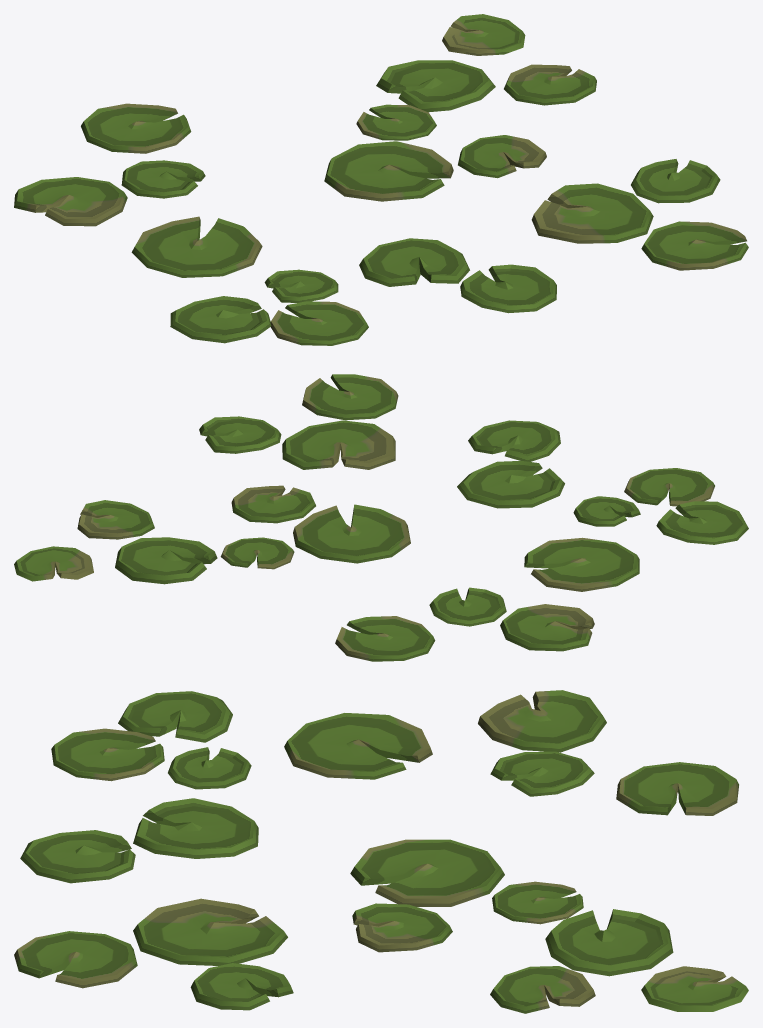
Rendered from swp_Env_LillyPads_01.glb.
The picture shows the model from 3 angles, top to bottom: view 1: azimuth 30°, elevation 25°; view 2: azimuth 150°, elevation 25°; view 3: azimuth 270°, elevation 25°; orthographic projection. The views are drawn at different scales.
Visible parts, largest first — view 1: SM_Env_LillyPads_01_LOD0; view 2: SM_Env_LillyPads_01_LOD0; view 3: SM_Env_LillyPads_01_LOD0.
Part boxes in pixels (box(x1,y1,x2,y2)): SM_Env_LillyPads_01_LOD0: box(14, 14, 748, 345); SM_Env_LillyPads_01_LOD0: box(14, 374, 748, 661); SM_Env_LillyPads_01_LOD0: box(14, 690, 748, 1013).
Size of the model in its own units: 3.88 by 0.095 by 3.75.
1 material, 1 textured.
